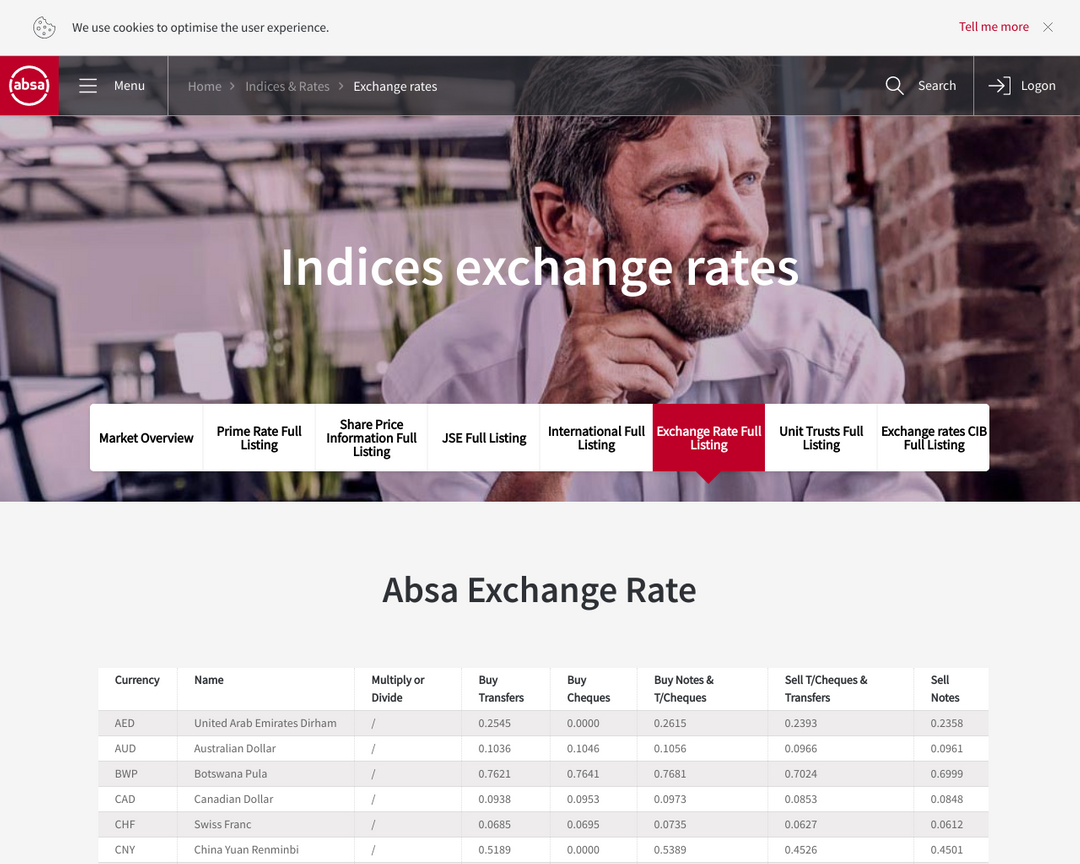ABSA: (8, 63, 50, 109)
